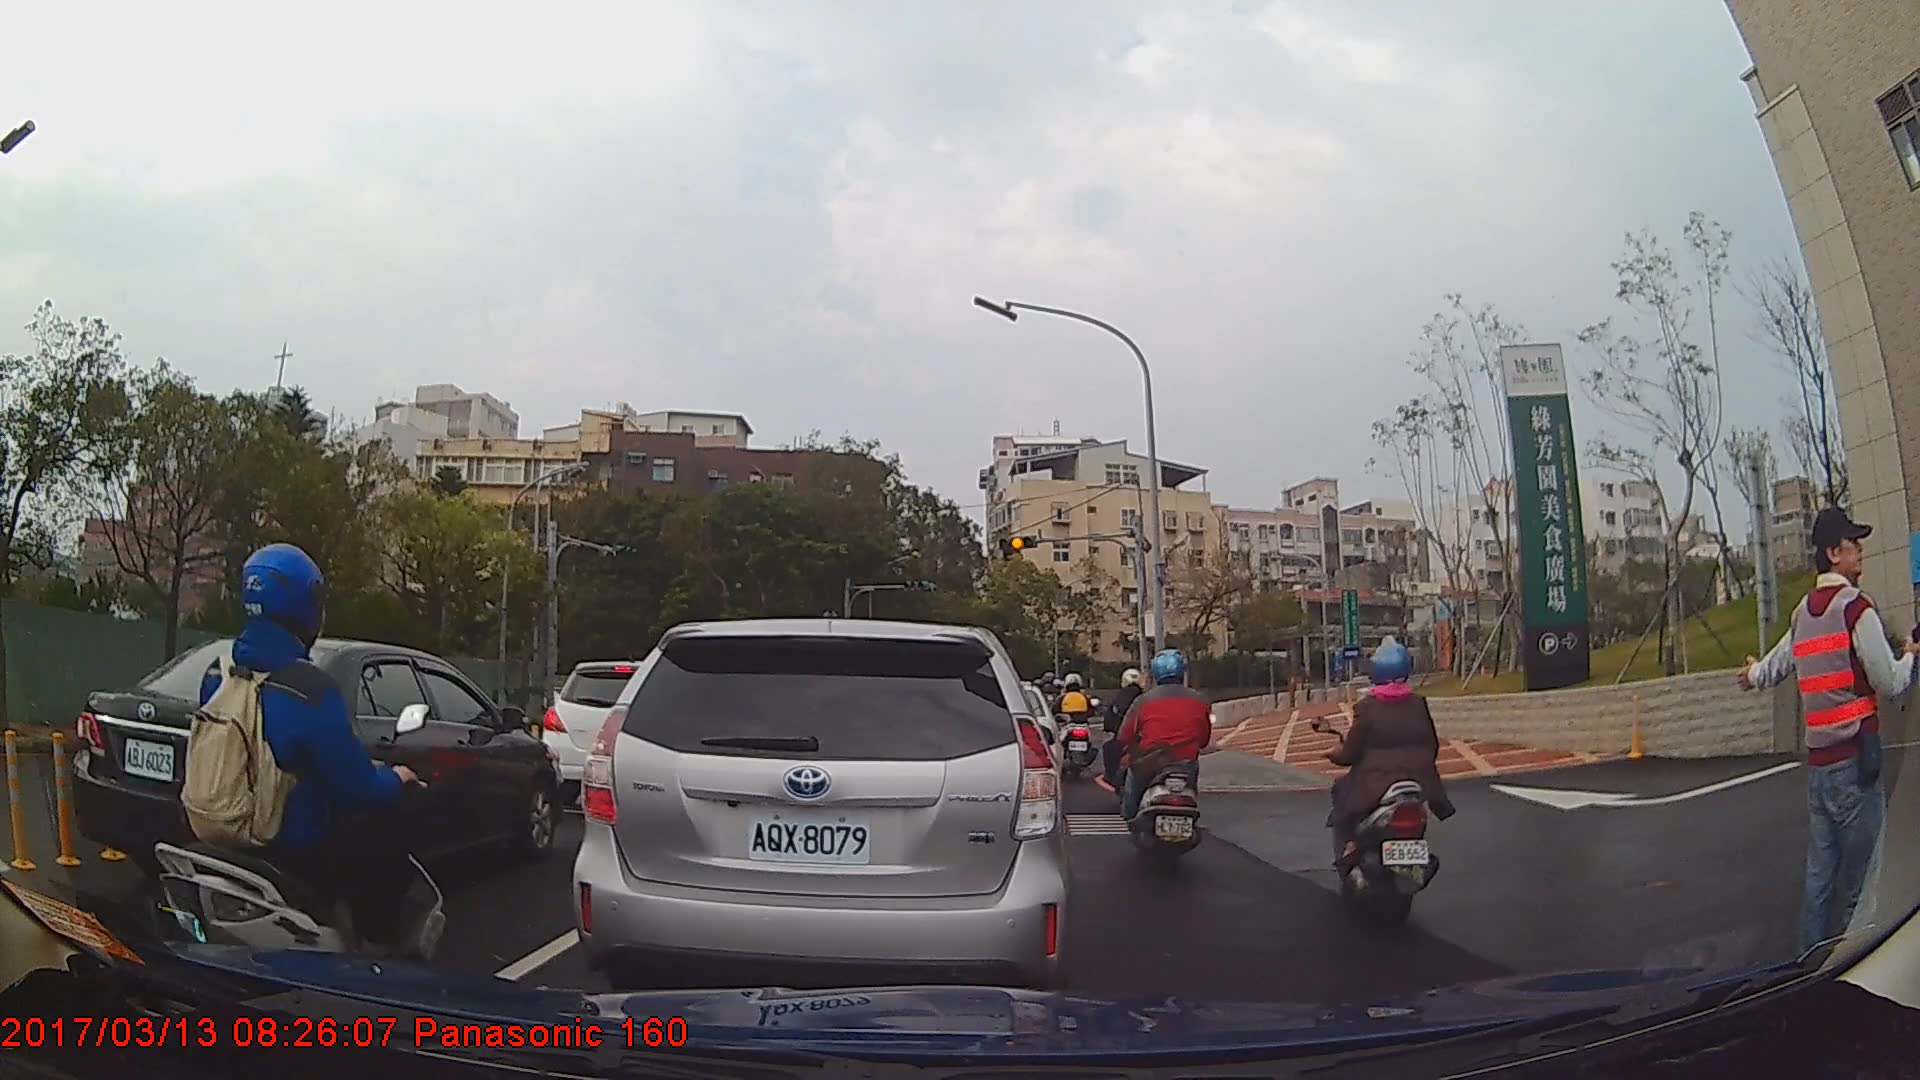pedestrian: (1738, 501, 1917, 979)
rider: (149, 538, 448, 1037), (1327, 639, 1445, 940), (1116, 649, 1207, 864), (1104, 664, 1157, 807), (1058, 669, 1100, 781)
vehicle: (571, 615, 1075, 999), (69, 632, 561, 902), (542, 659, 706, 806)
